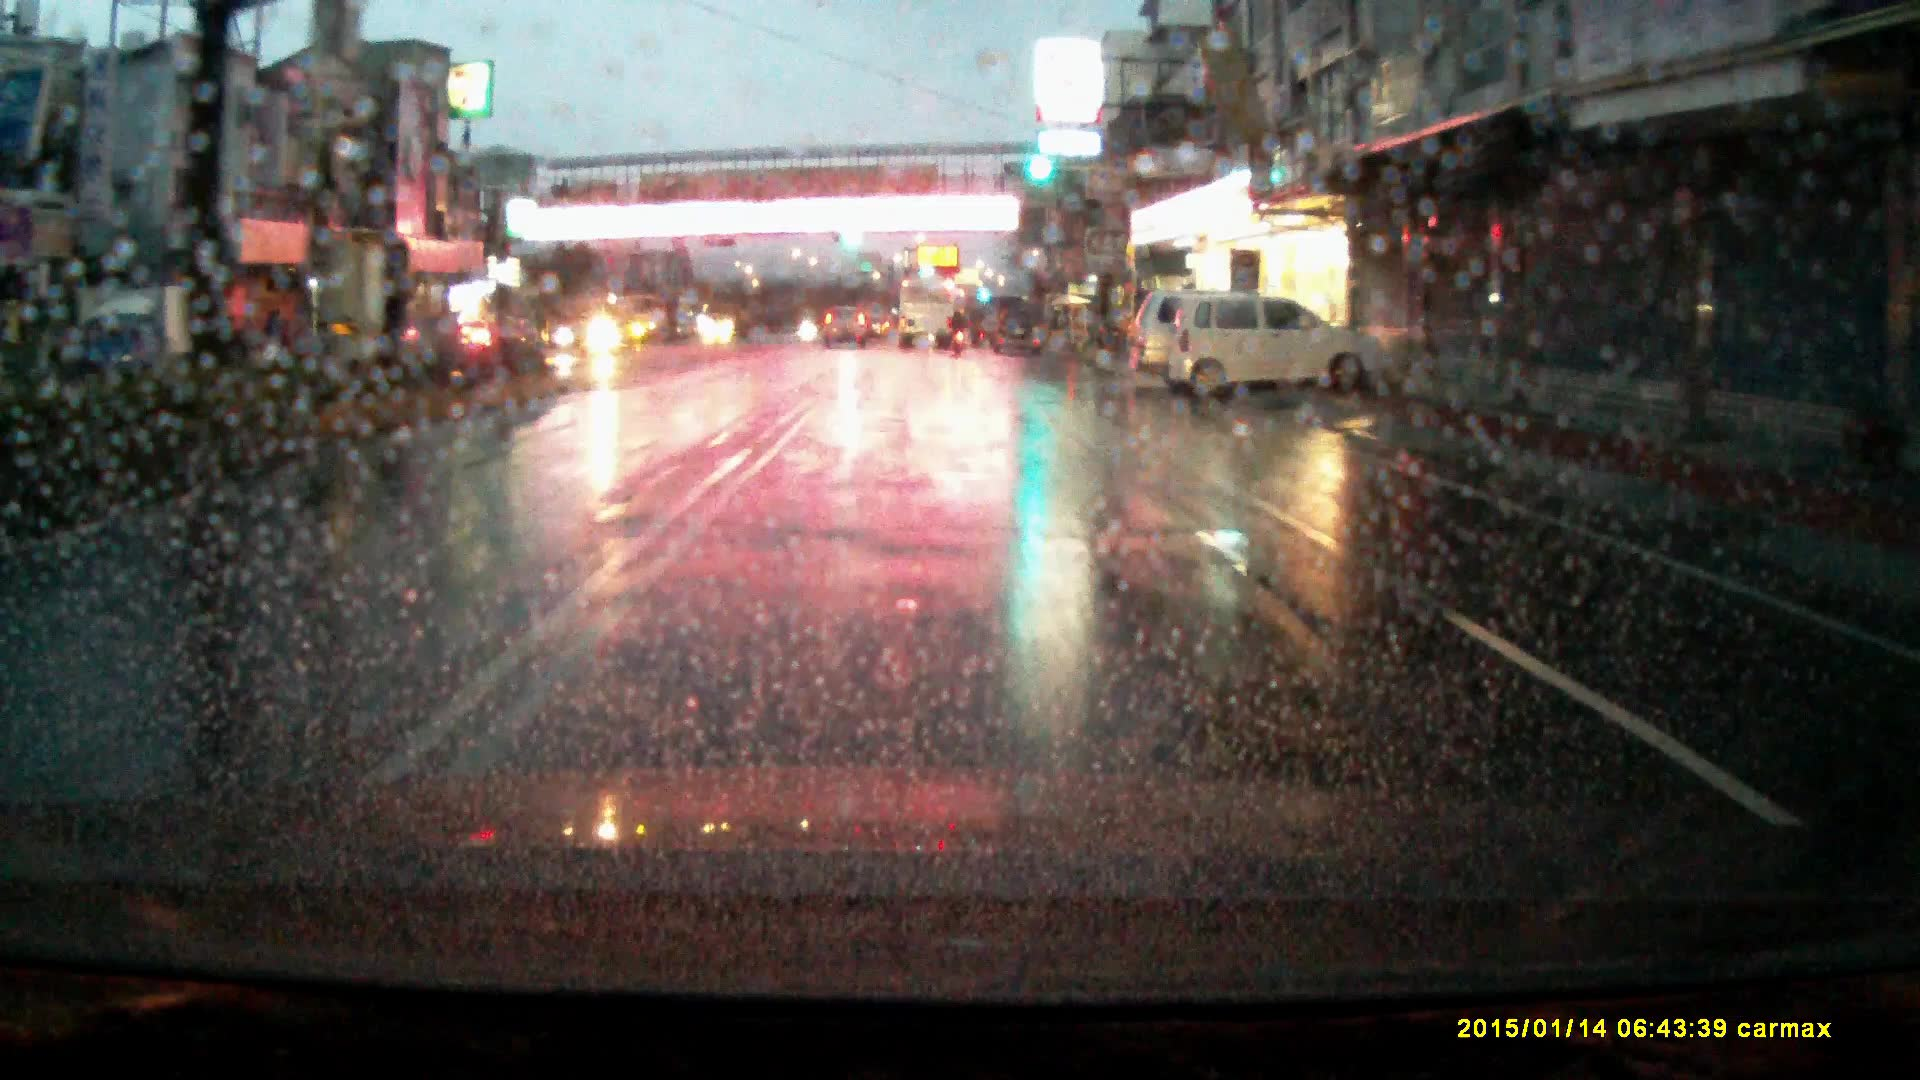rider: (949, 306, 969, 357)
vehicle: (1169, 293, 1389, 408), (71, 284, 227, 376), (1128, 290, 1265, 388), (553, 293, 643, 356), (899, 280, 957, 350), (989, 302, 1045, 356), (699, 303, 752, 342), (824, 303, 869, 347)
